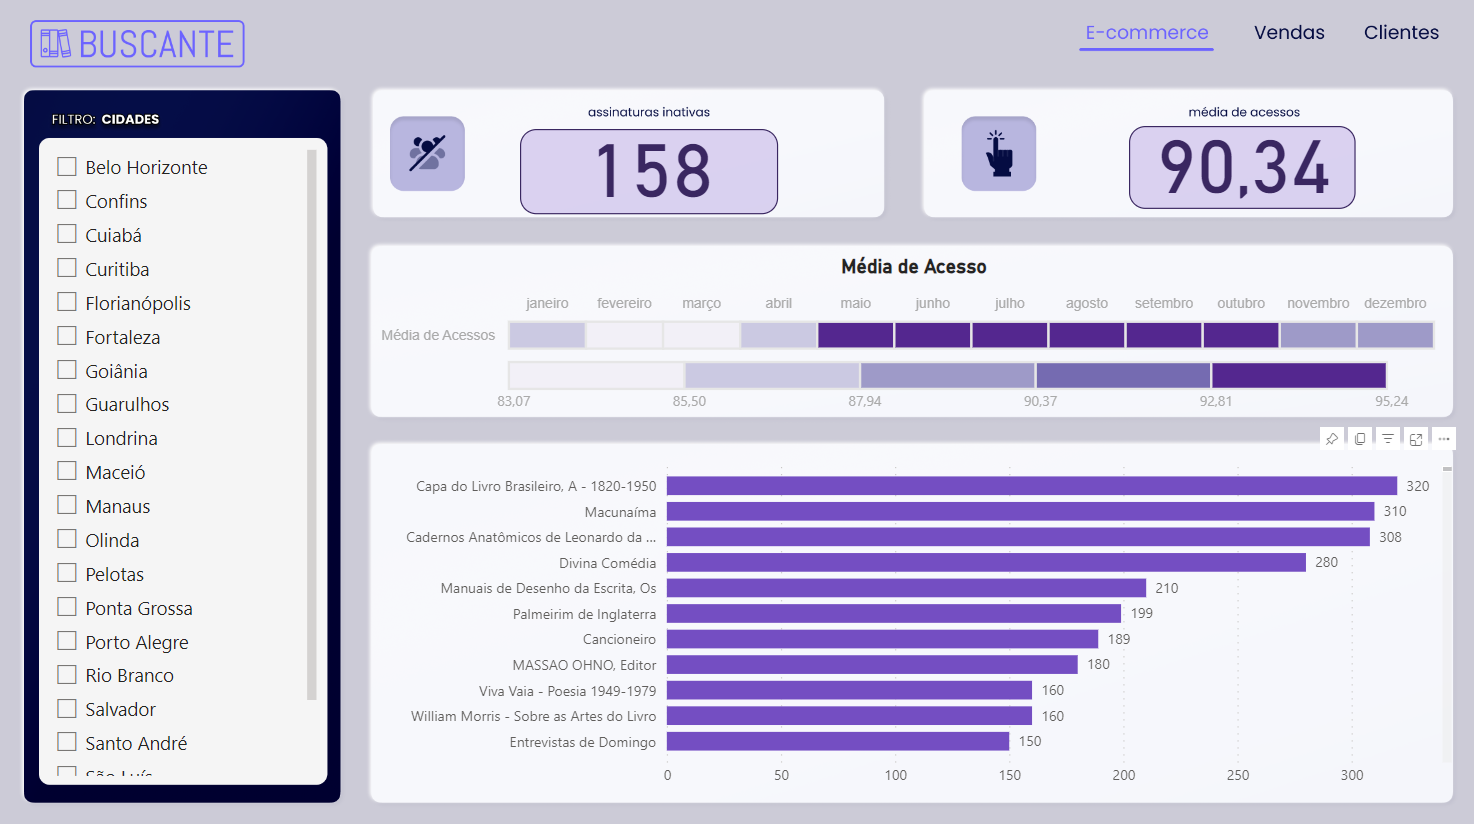

What the dashboard file says about the page in this screenshot:
{"tool":"powerbi","page":{"name":"E-commerce","canvas":[1280,720],"ordinal":0},"visuals":[{"type":"slicer","fields":{"Values":["Clientes.Cidade"]},"box":[41.4,128.6,240,545.7],"z":0},{"type":"card","fields":{"Values":["Clientes.Assinatura ativa"]},"box":[450,115.7,221.4,72.9],"z":1000},{"type":"card","fields":{"Values":["Acessos na página.Acessos"]},"box":[971.4,112.9,194.3,71.4],"z":2000},{"type":"TableHeatMap1443716069308","title":"Média de Acesso","fields":{"Y":["Acessos na página.Acessos"],"Category":["Acessos na página.Data.Variation.Hierarquia de datas.Mês"]},"box":[322.9,222.9,930,168.6],"z":3000},{"type":"clusteredBarChart","fields":{"Category":["Catálogo livros.Titulo"],"Y":["Catálogo livros.Valor"]},"box":[332.9,391.4,920,295.7],"z":4000},{"type":"actionButton","box":[1057.1,12.9,100,40],"z":5000},{"type":"actionButton","box":[1161.4,12.9,85.7,40],"z":6000}]}

Visuals, with their boxes in screenshot pixels (x1, y1, x2, y2), scaled from the page's 1280x720 canvas onto the 1474x824 screenshot:
slicer - Clientes.Cidade: (48,147,324,772)
card - Clientes.Assinatura ativa: (518,132,773,216)
card - Acessos na página.Acessos: (1119,129,1342,211)
"Média de Acesso" TableHeatMap1443716069308: (372,255,1443,448)
clusteredBarChart - Catálogo livros.Titulo x Catálogo livros.Valor: (383,448,1443,786)
actionButton: (1217,15,1332,61)
actionButton: (1337,15,1436,61)
